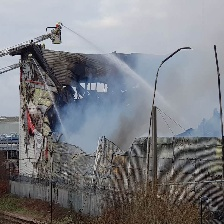smoke: (72, 20, 221, 153)
